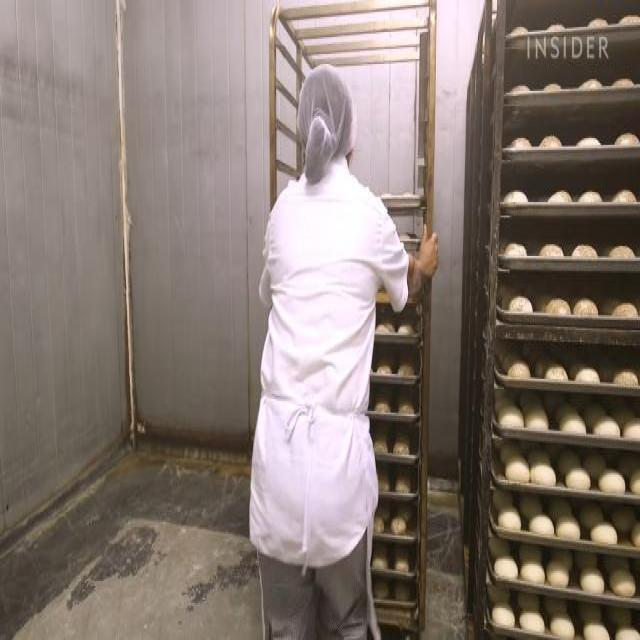bare_hand: (410, 224, 449, 291)
